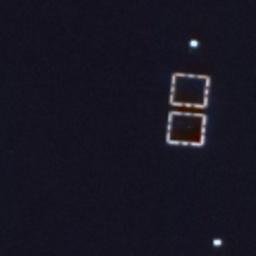square_solid: (162, 107, 211, 151), (166, 69, 213, 112)
